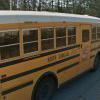Bus: (3, 6, 100, 94)
